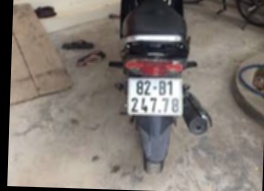Bien-so: (126, 85, 183, 122)
